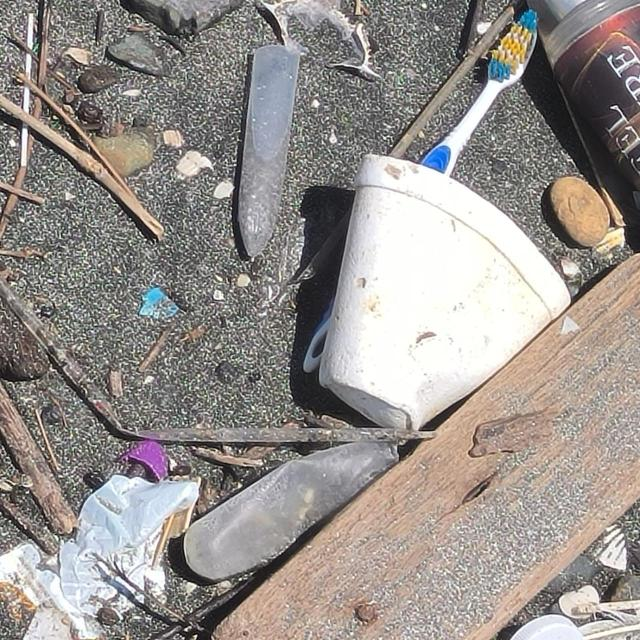styrofoam_waste: (305, 155, 573, 433)
